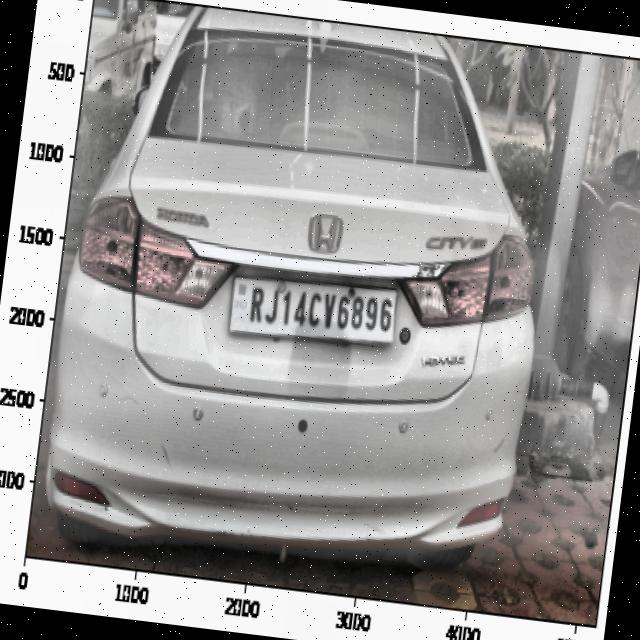license_plate: (240, 278, 399, 341)
